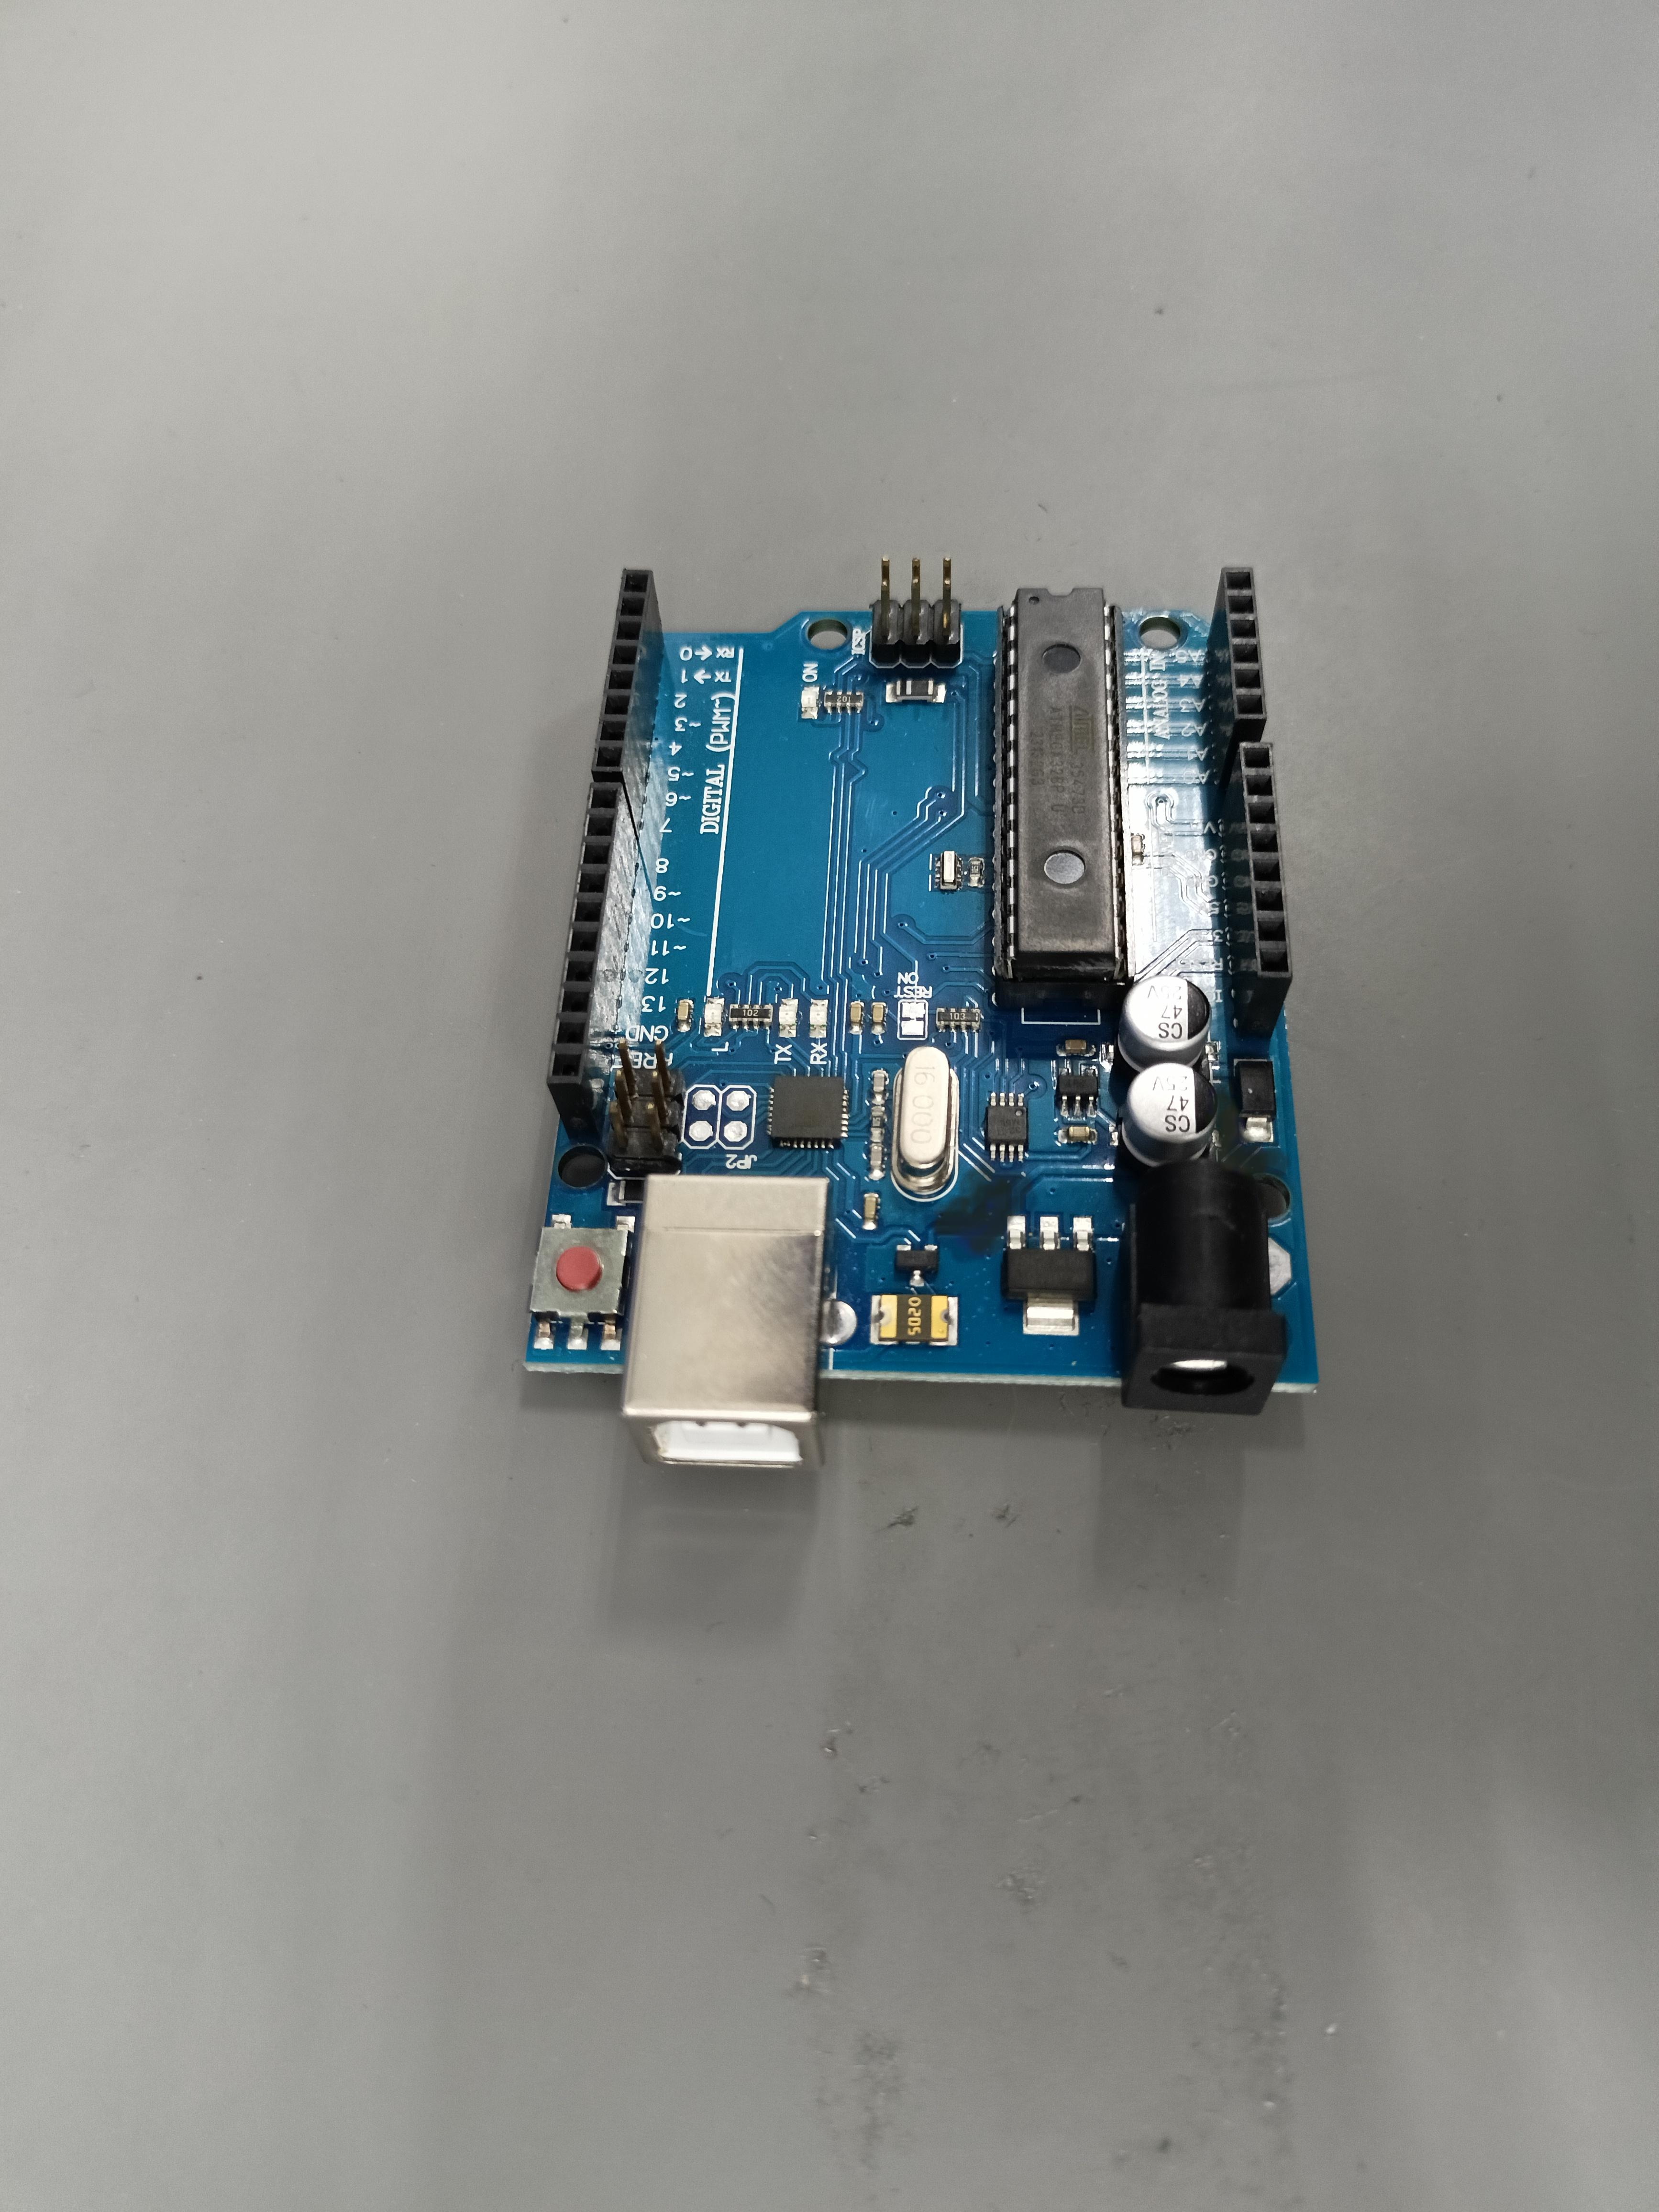ATmega328 chip: (993, 587, 1136, 1007)
Arduino board: (525, 557, 1319, 1470)
Overheat: (927, 1158, 1039, 1263), (1213, 1089, 1293, 1176)
USB: (619, 1174, 835, 1470)
capacitor: (1115, 1062, 1218, 1174), (1115, 975, 1213, 1082)
pins: (547, 782, 638, 1139), (1223, 742, 1293, 1038), (591, 568, 664, 841), (1208, 566, 1267, 789)
resistor: (728, 1003, 774, 1026), (936, 1008, 981, 1029), (824, 691, 863, 709)
